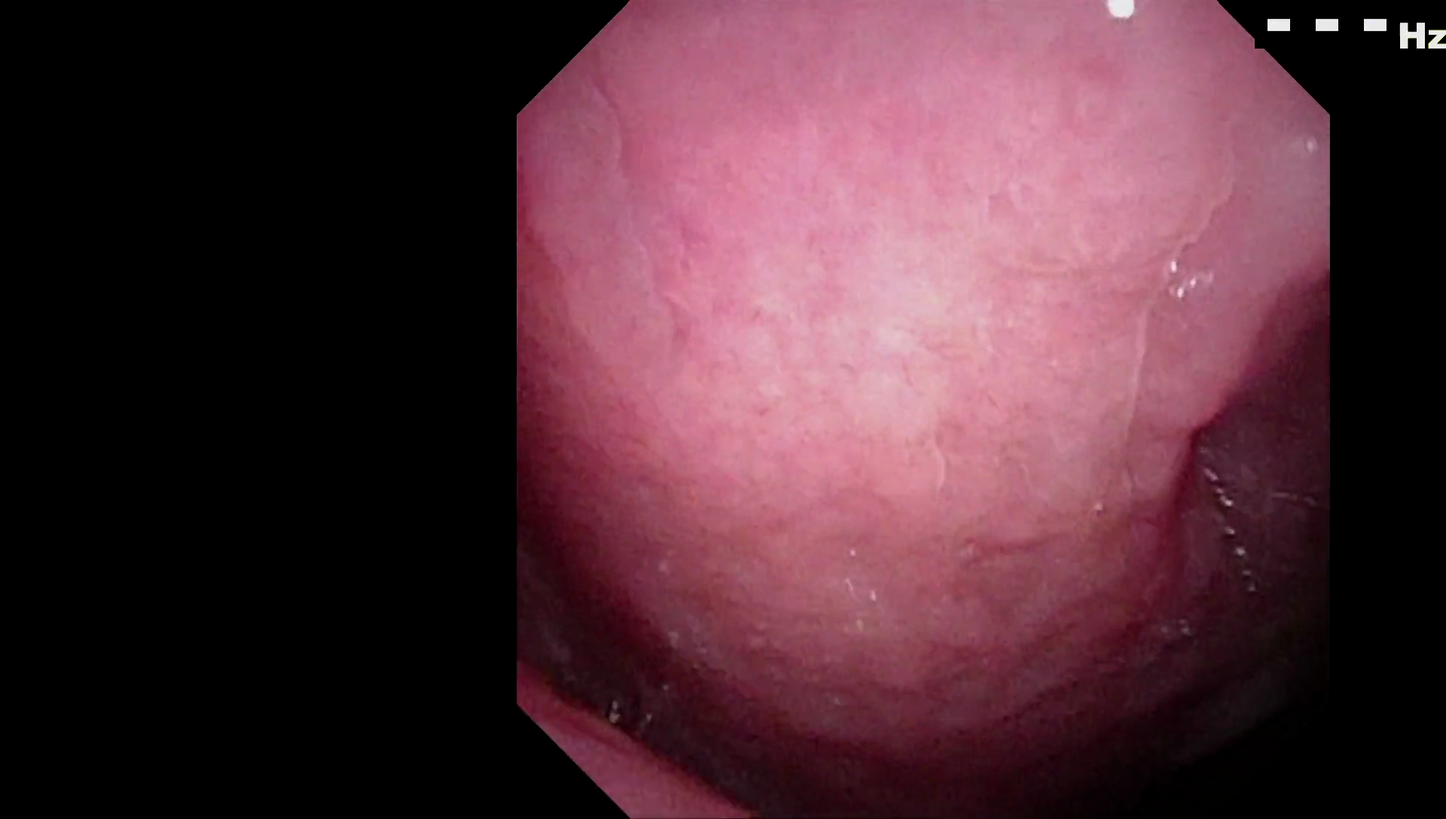close_wall: (608, 65, 1247, 584)
next: (530, 534, 718, 772), (986, 653, 1236, 805)
